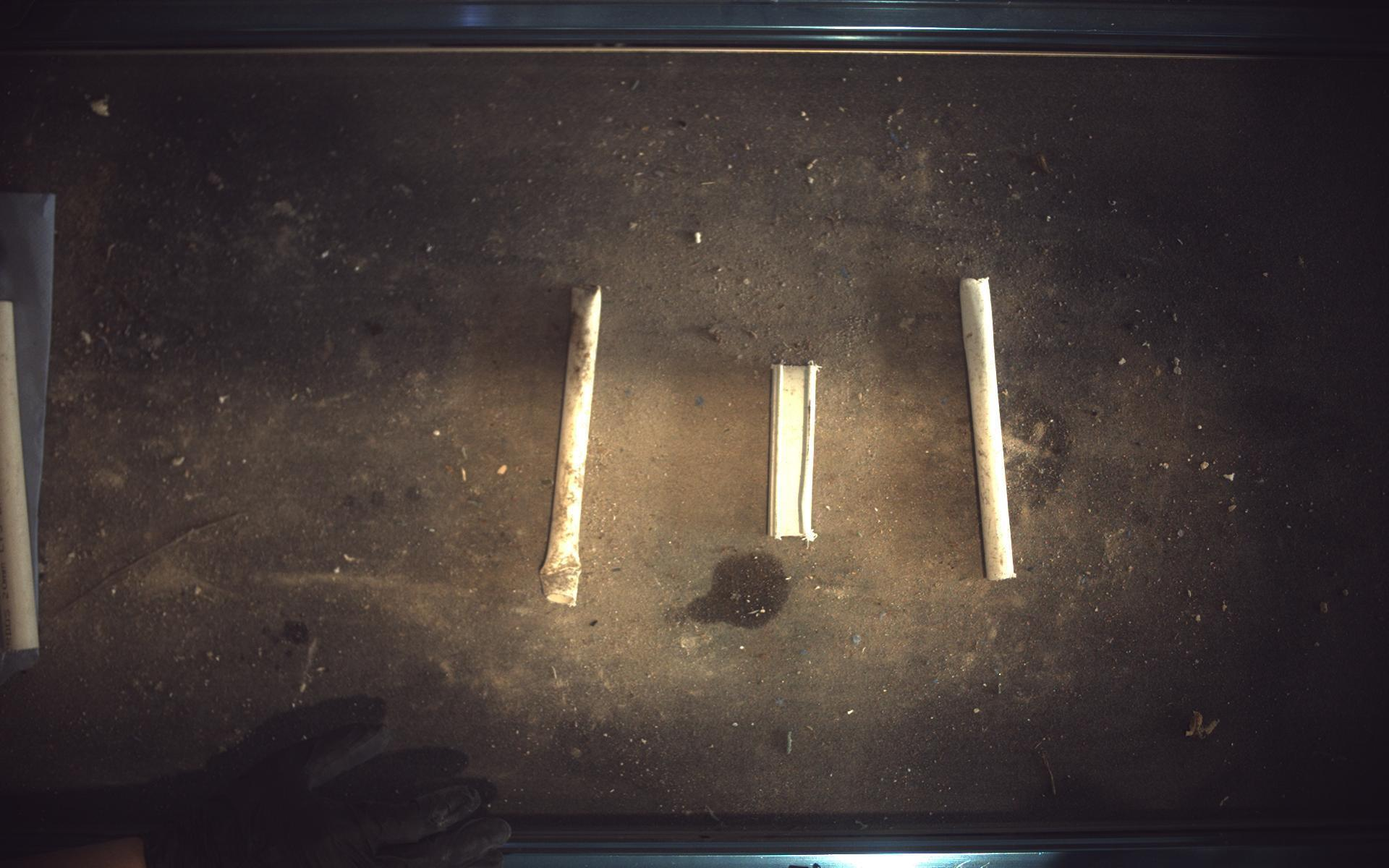pipes: (540, 285, 602, 607), (961, 277, 1018, 581), (1, 300, 37, 653)
plastic: (770, 361, 820, 542)
